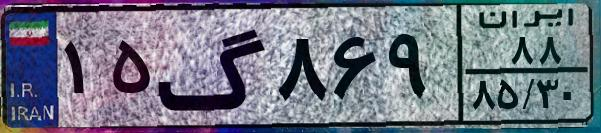0: (560, 70, 590, 125)
1: (57, 26, 110, 100)
3: (535, 70, 560, 125)
5: (110, 28, 156, 98), (495, 70, 520, 125)
6: (330, 28, 385, 110)
8: (270, 28, 330, 110), (537, 27, 568, 80), (508, 27, 537, 80), (470, 70, 495, 125)
9: (385, 28, 445, 110)
گ: (156, 12, 270, 120)
